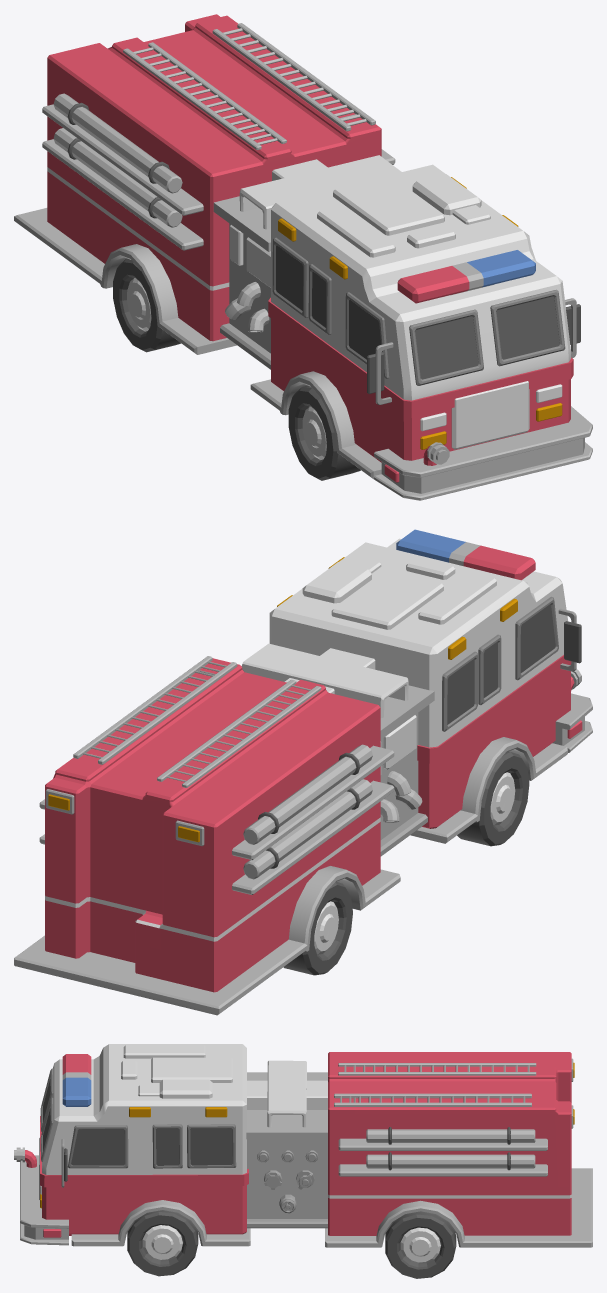
File: FireTruck.fbx
The picture shows the model from 3 angles, top to bottom: view 1: azimuth 30°, elevation 25°; view 2: azimuth 150°, elevation 25°; view 3: azimuth 270°, elevation 25°; orthographic projection. The views are drawn at different scales.
Visible parts, largest first — view 1: pCylinder30; view 2: pCylinder30; view 3: pCylinder30.
Boxes of the visible parts, <box> form: pCylinder30: <box>14,14,592,500</box>; pCylinder30: <box>14,529,592,1015</box>; pCylinder30: <box>14,1044,592,1278</box>.
Size of the model in its own units: 3.39 by 3.64 by 10.75.
